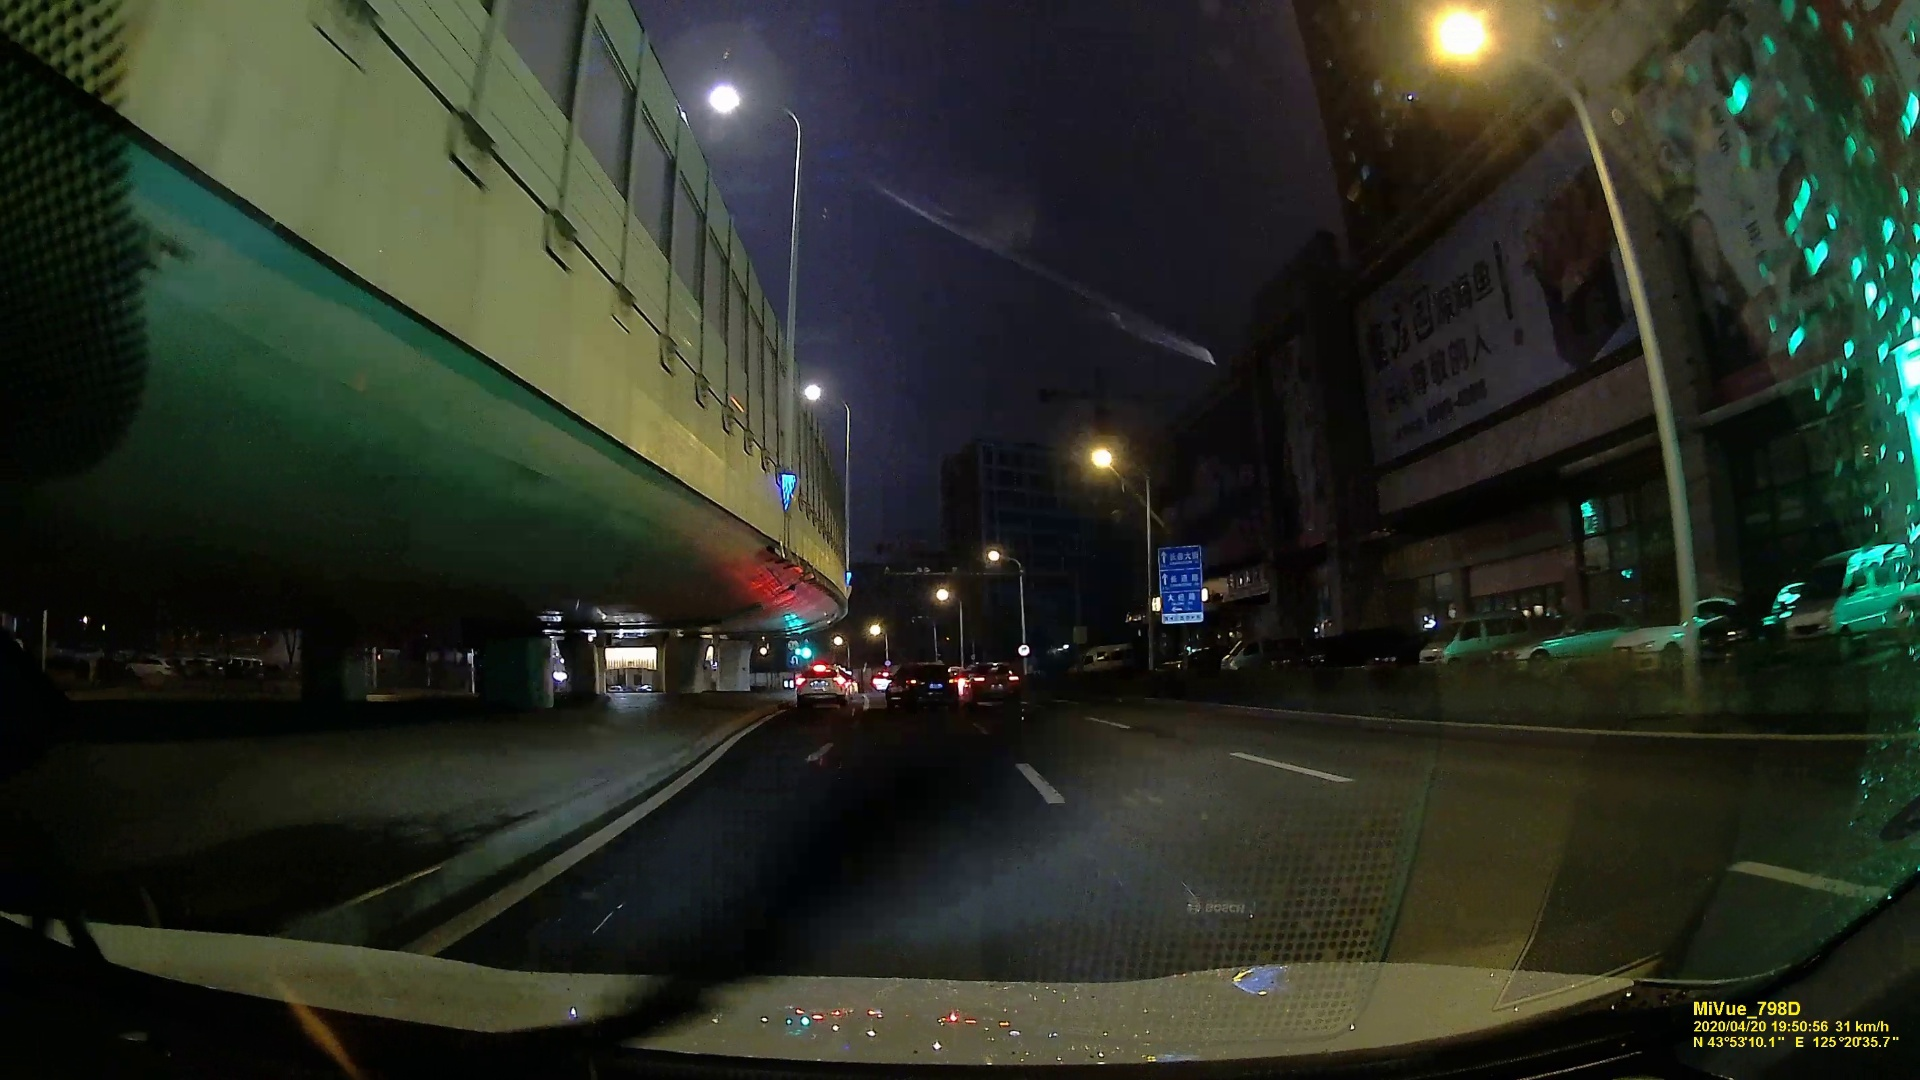minibus: (1785, 542, 1916, 655), (1418, 615, 1510, 670), (1069, 641, 1135, 675), (1220, 637, 1267, 670)
traffic_sign: (1160, 546, 1201, 618), (1017, 644, 1030, 655)
vehicle: (886, 663, 957, 705), (960, 663, 1021, 703), (795, 666, 849, 707)
